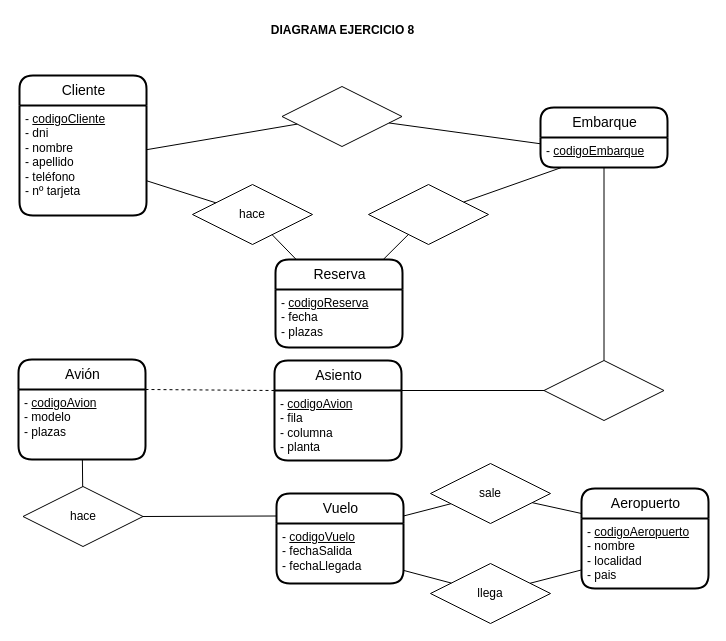
Image size: 726x641. Some labels were removed from this diagram. The shapes that lost their labels are listed below. From the top down, each one's centre as x and y in pixels, then its label:
At [341,116]: "obtiene".
At [428,214]: "crea".
At [603,390]: "asigna".
